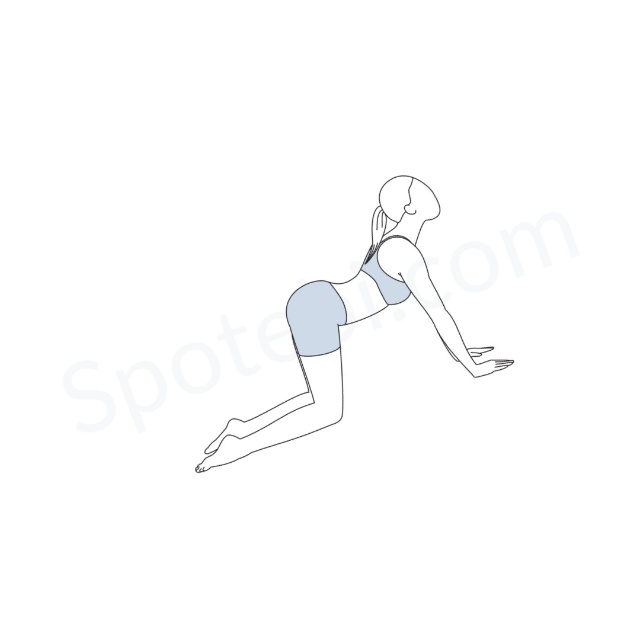Cow_Pose: (195, 176, 515, 475)
